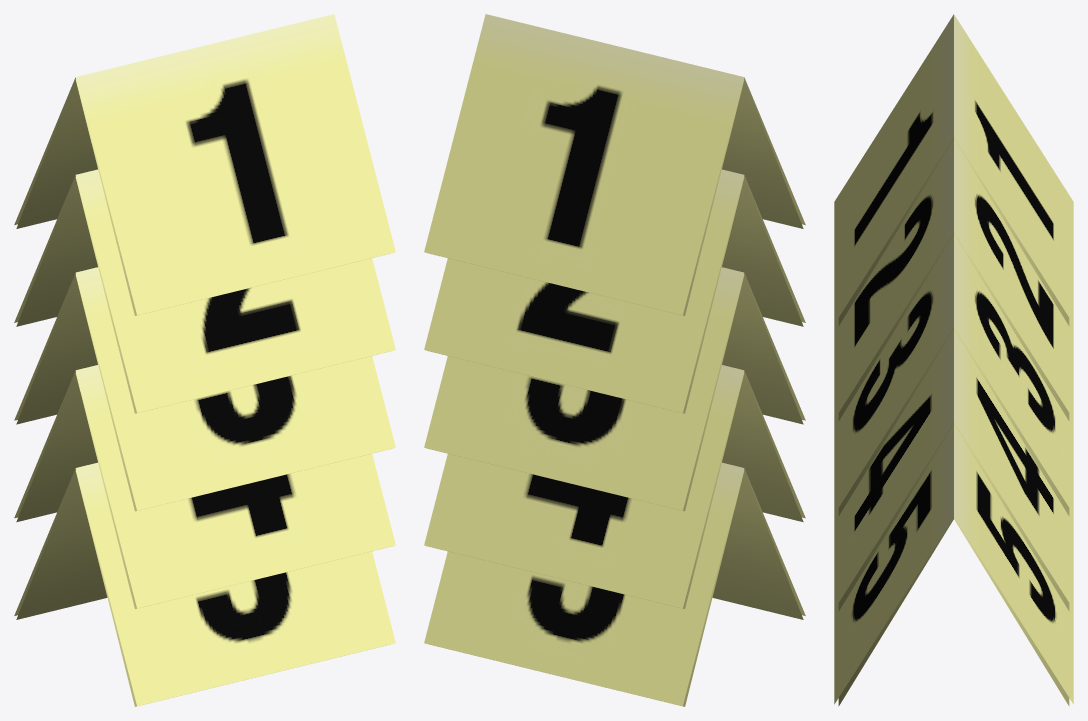
The model's file is evidenceMarkers.fbx.
3 renders of one model, left to right at view 1: azimuth 30°, elevation 25°; view 2: azimuth 150°, elevation 25°; view 3: azimuth 270°, elevation 25°, orthographic. The views are drawn at different scales.
Visible parts, largest first — view 1: marker1, marker5, marker2, marker4, marker3; view 2: marker1, marker5, marker2, marker4, marker3; view 3: marker1, marker5, marker4, marker2, marker3.
Boxes of the visible parts, x1,y1,x2,y2 form: marker1: (14,14,395,315); marker5: (14,462,395,706); marker2: (14,169,395,413); marker4: (14,365,395,608); marker3: (14,267,395,511); marker1: (424,14,805,315); marker5: (424,462,805,706); marker2: (424,169,805,413); marker4: (424,365,805,608); marker3: (424,267,805,511); marker1: (834,14,1073,325); marker5: (834,424,1073,706); marker4: (834,329,1073,611); marker2: (834,139,1073,420); marker3: (834,234,1073,516).
Size of the model in its own units: 0.0966 by 0.2092 by 0.0796.
1 material, 1 textured.
